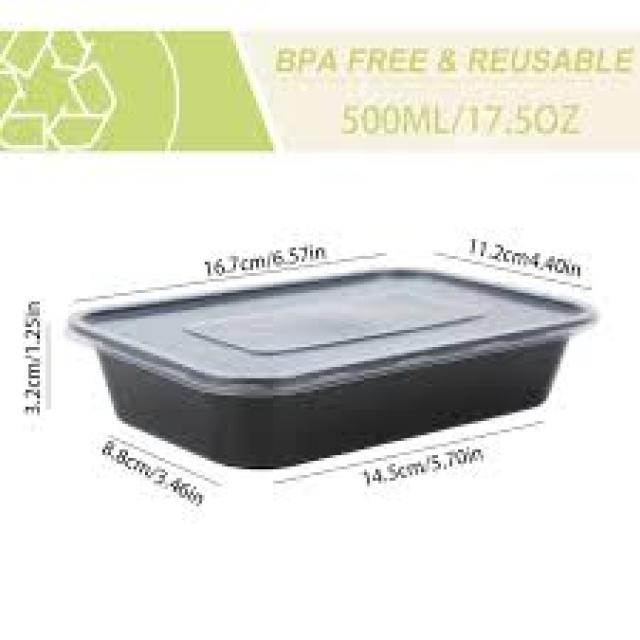disposable: (67, 211, 604, 484)
